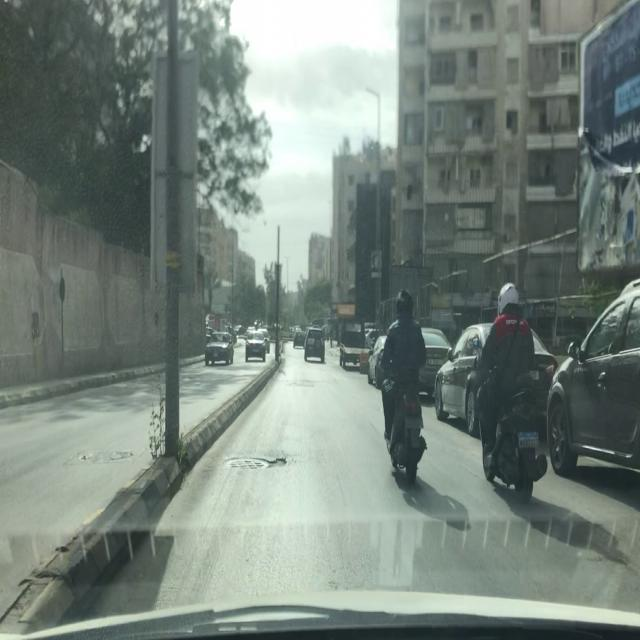Pothole: (266, 452, 294, 477)
